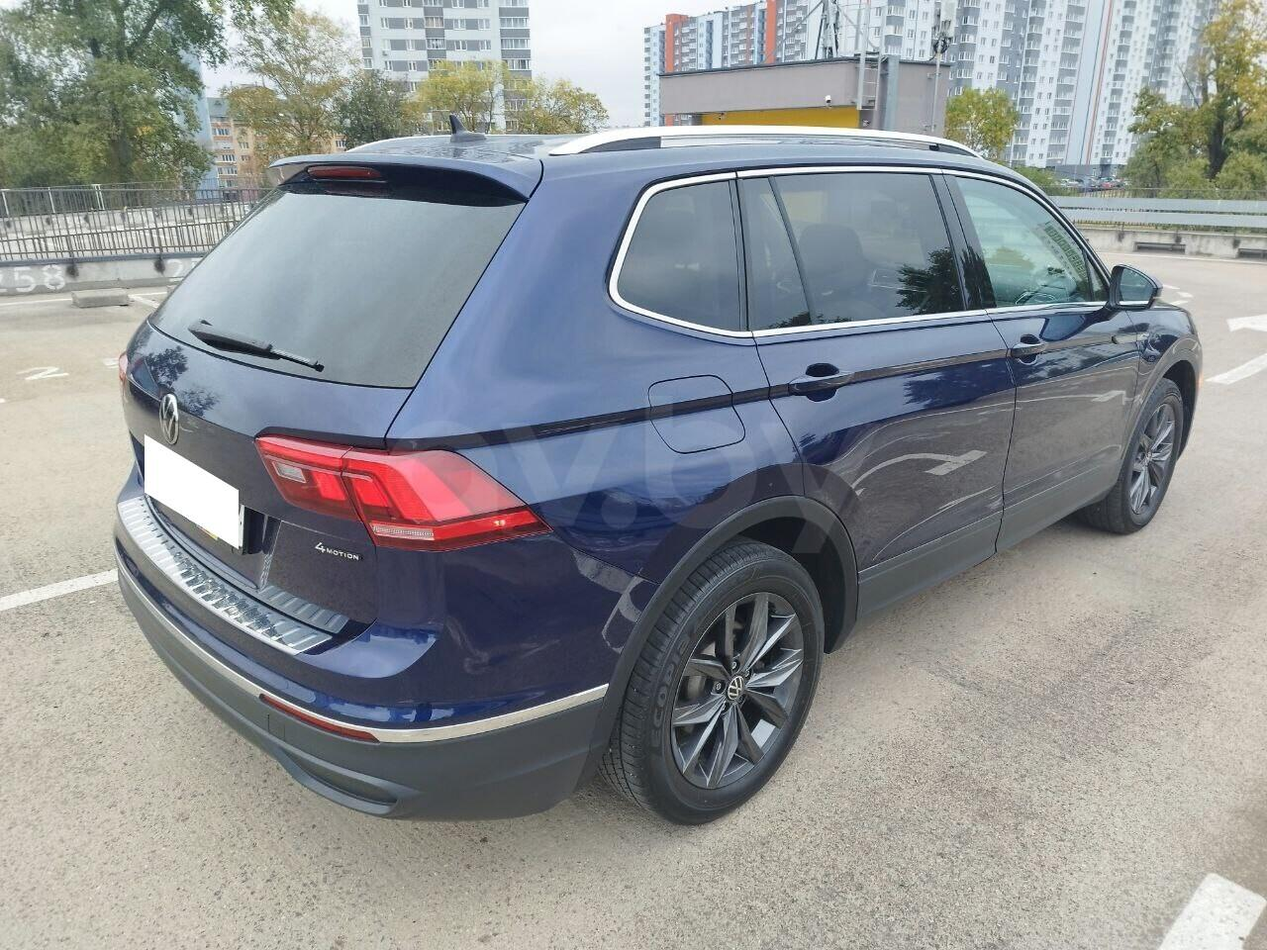Tiguan_2020-2024: (99, 129, 1205, 824)
